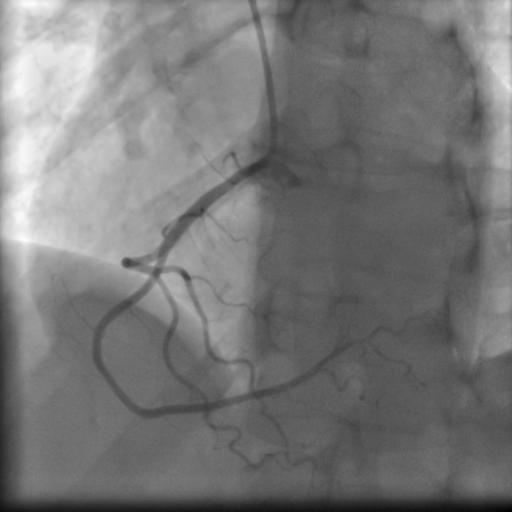Stenosis: (105, 357, 129, 407)
